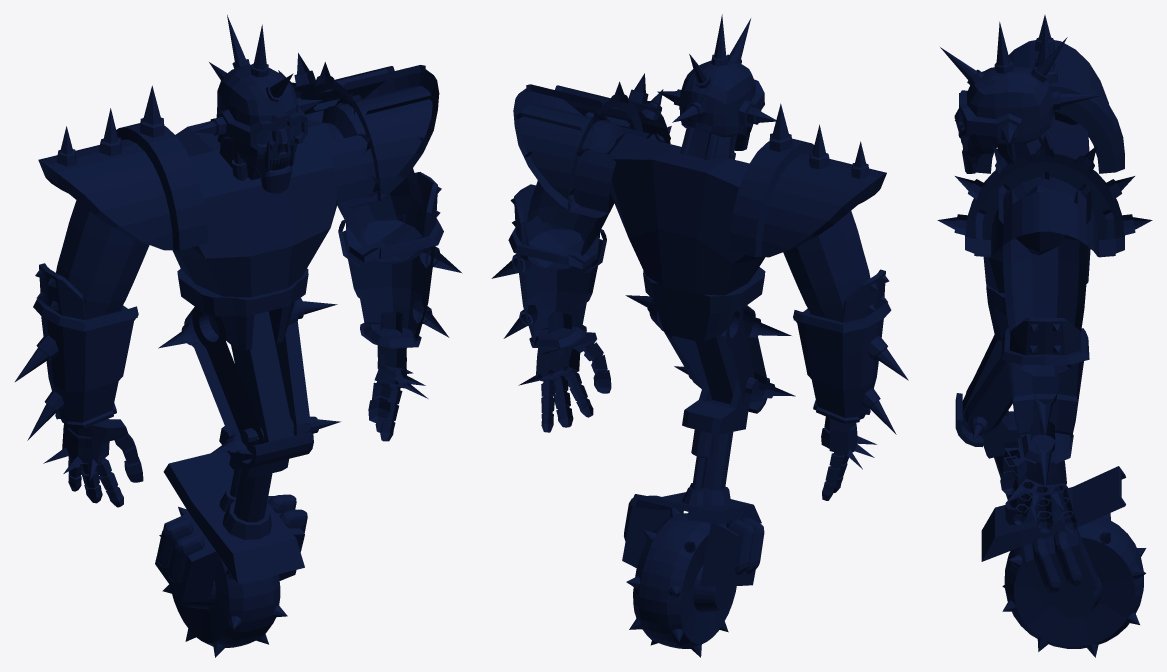
The model's file is character01.fbx.
3 views of the same model, side by side, from view 1: azimuth 30°, elevation 25°; view 2: azimuth 150°, elevation 25°; view 3: azimuth 270°, elevation 25° (orthographic). The views are drawn at different scales.
Visible parts, largest first — view 1: torso_low; view 2: torso_low; view 3: torso_low.
Boxes of the visible parts, x1,y1,x2,y2 form: torso_low: [15, 15, 462, 657]; torso_low: [491, 14, 908, 657]; torso_low: [937, 15, 1152, 657].
Size of the model in its own units: 194 by 268 by 83.9.
